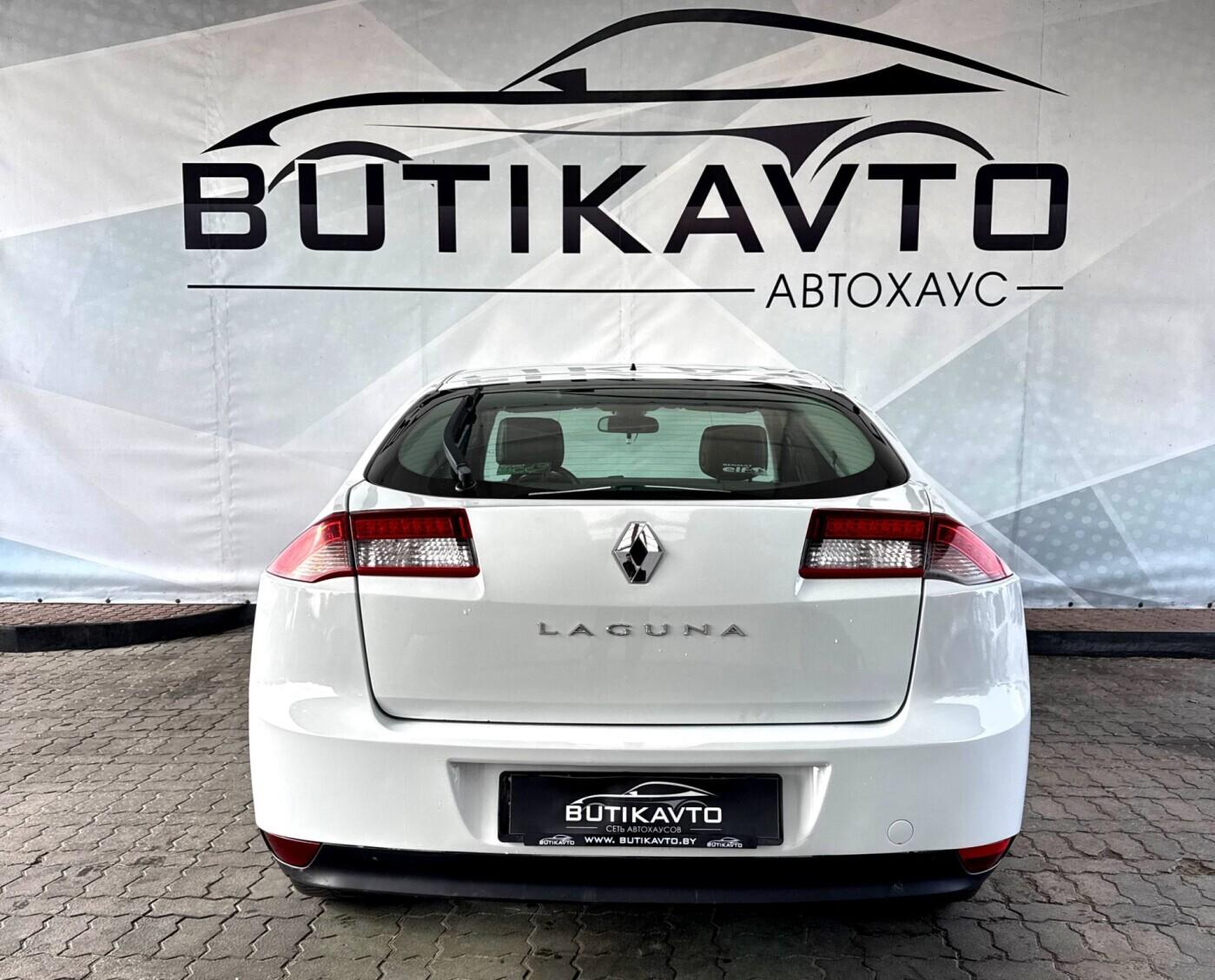Laguna_2010-2015: (230, 348, 1041, 920)
